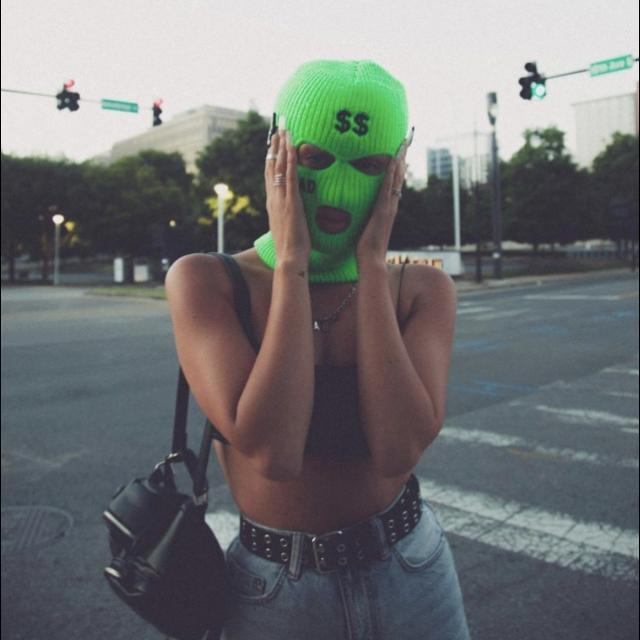criminal: (165, 59, 476, 640)
